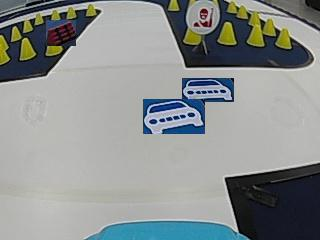evil: (185, 0, 219, 35)
